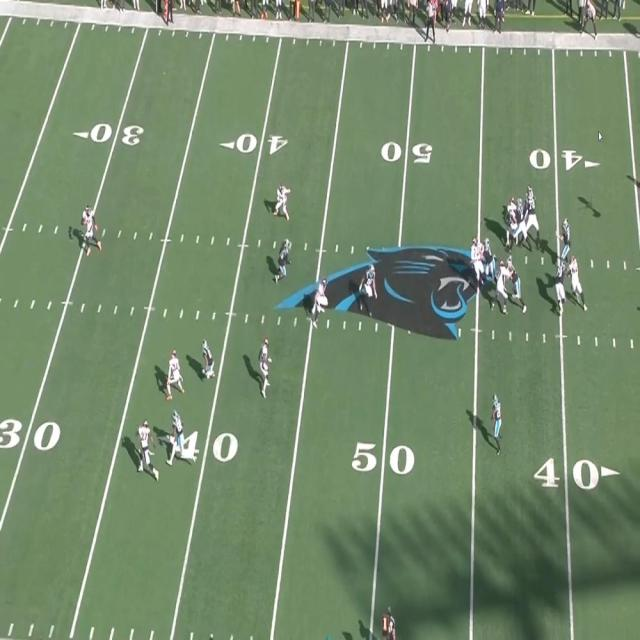db: (80, 208, 97, 253), (138, 421, 152, 473), (168, 351, 182, 397), (260, 336, 270, 392), (278, 185, 292, 221)
lb: (316, 280, 328, 322)
qb: (560, 216, 570, 266)
skill: (170, 412, 186, 464), (362, 263, 378, 310), (275, 238, 290, 280), (494, 395, 504, 452), (204, 340, 216, 380)
